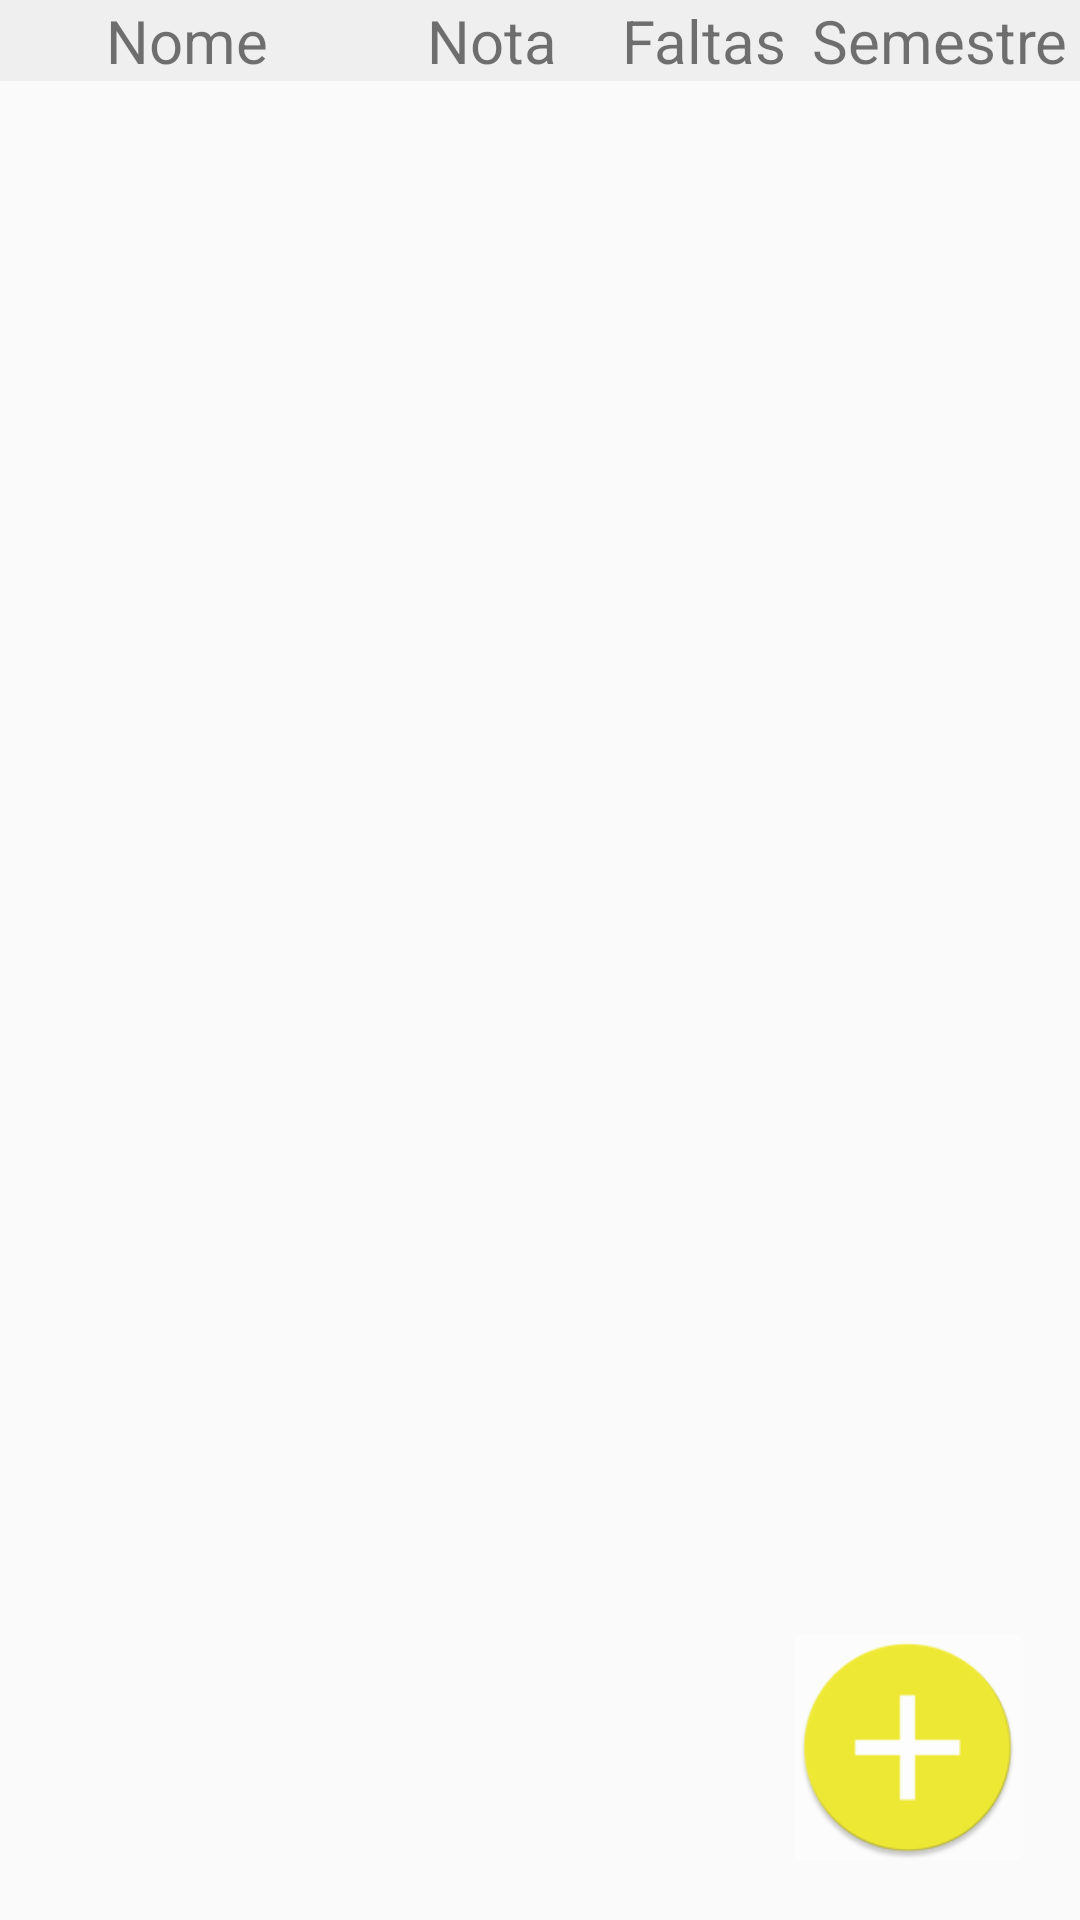

Icons on this 1080×1920 Android screen, each with its box as (x1, y1, x2, y2):
add round: (803, 1643, 1012, 1856)
